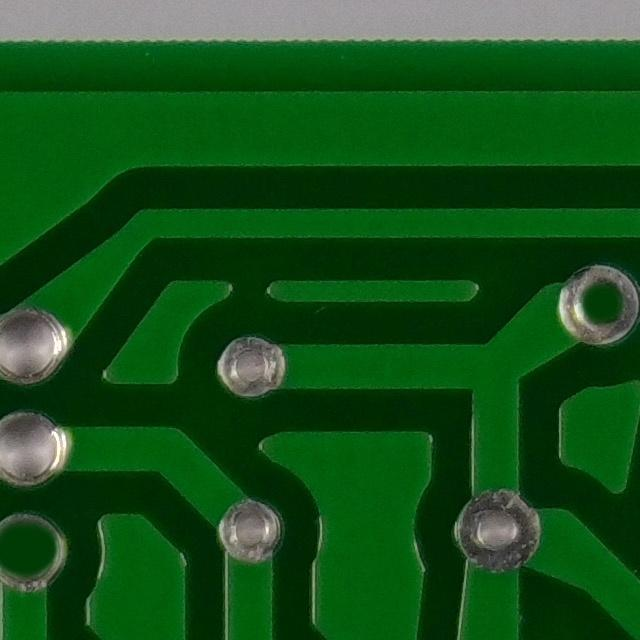missing_hole: (552, 258, 640, 348), (0, 508, 73, 592)
